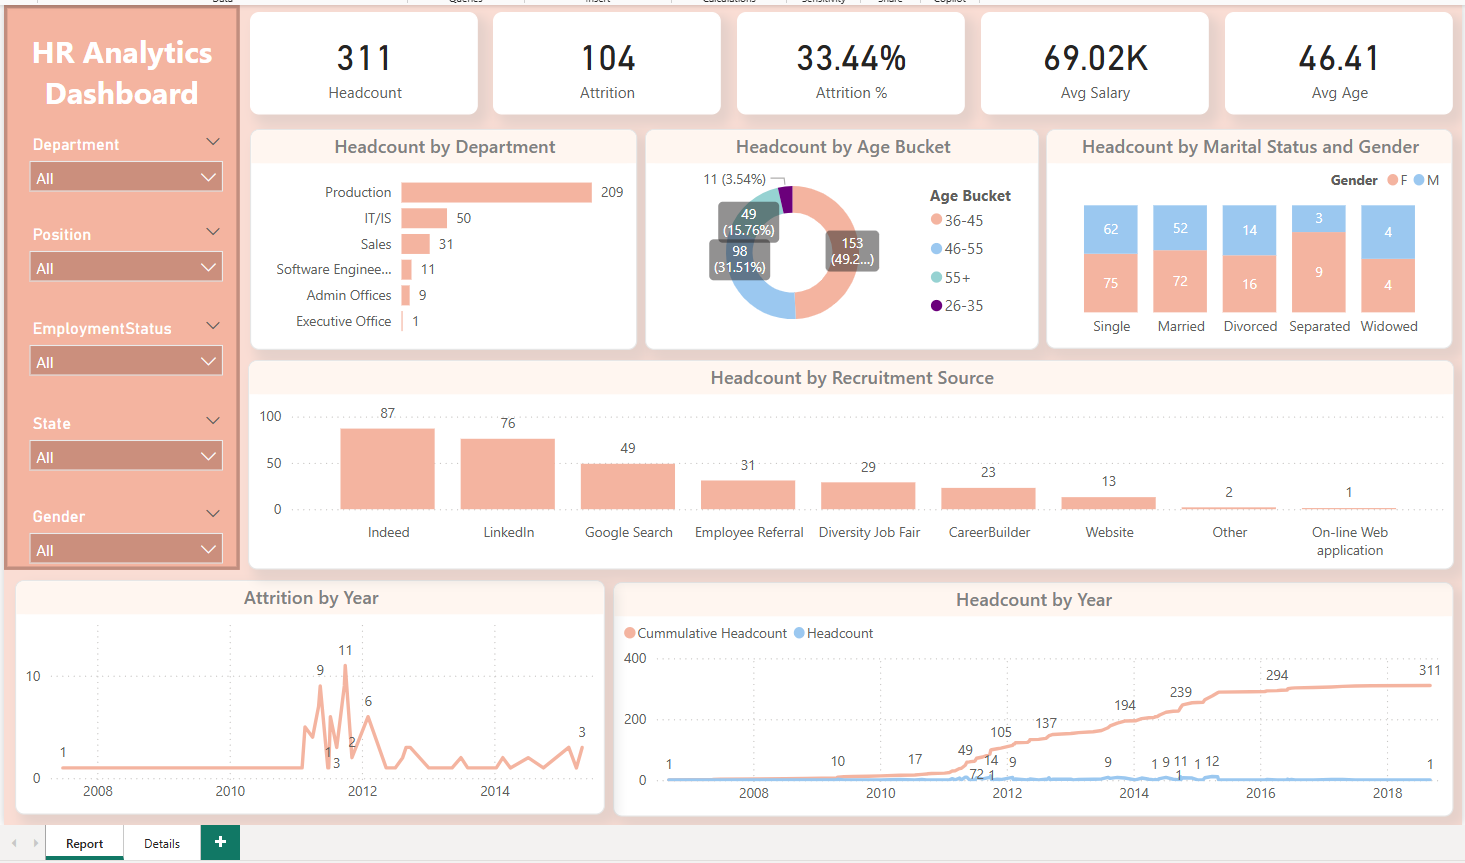

The page's visual inventory and layout, read from the dashboard file:
{"tool":"powerbi","page":{"name":"Report","canvas":[1280,720],"ordinal":0},"visuals":[{"type":"shape","box":[0,0,207.5,495.5],"z":0},{"type":"card","fields":{"Values":["Measure.Headcount"]},"box":[215.6,6.2,200,89.6],"z":1000},{"type":"card","fields":{"Values":["Measure.Attrition"]},"box":[429.7,5.8,200,90.4],"z":2000},{"type":"card","fields":{"Values":["Measure.Attrition %"]},"box":[643.8,5.8,200,90.4],"z":3000},{"type":"card","fields":{"Values":["Measure.Avg Salary"]},"box":[857.8,5.8,200,90.4],"z":4000},{"type":"card","fields":{"Values":["Measure.Avg Age"]},"box":[1071.9,6.2,200,89.6],"z":5000},{"type":"clusteredBarChart","fields":{"Y":["Measure.Headcount"],"Category":["HRDataset_v14.Department"]},"box":[216,109,340,194],"z":6000},{"type":"donutChart","fields":{"Category":["HRDataset_v14.Age Bucket"],"Y":["Measure.Headcount"]},"box":[562.5,109,346,194],"z":7000},{"type":"hundredPercentStackedColumnChart","title":"Headcount by Marital Status and Gender","fields":{"Category":["HRDataset_v14.MaritalDesc"],"Y":["Measure.Headcount"],"Series":["HRDataset_v14.Gender"]},"box":[915,109,357,193],"z":8000},{"type":"lineChart","title":"Headcount by Year","fields":{"Category":["HRDataset_v14.DateofHire"],"Y":["Measure.Cummulative Headcount","Measure.Headcount"]},"box":[534.4,506.2,737.5,206],"z":9000},{"type":"lineChart","title":"Attrition by Year","fields":{"Category":["HRDataset_v14.DateofHire"],"Y":["Measure.Attrition"]},"box":[10,505,518,206],"z":10000},{"type":"columnChart","title":"Headcount by Recruitment Source","fields":{"Y":["Measure.Headcount"],"Category":["HRDataset_v14.RecruitmentSource"]},"box":[214,312,1059,184],"z":11000},{"type":"slicer","fields":{"Values":["HRDataset_v14.Department"]},"box":[12.3,109.2,190,60],"z":12000},{"type":"slicer","fields":{"Values":["HRDataset_v14.Position"]},"box":[12.3,187.7,190,60],"z":13000},{"type":"slicer","fields":{"Values":["HRDataset_v14.EmploymentStatus"]},"box":[12.3,270.8,190,60],"z":14000},{"type":"slicer","fields":{"Values":["HRDataset_v14.State"]},"box":[12.3,353.8,190,60],"z":15000},{"type":"slicer","fields":{"Values":["HRDataset_v14.Gender"]},"box":[12.3,435.4,190,60],"z":16000},{"type":"textbox","box":[0,0,207,109],"z":17000}]}

Visuals, with their boxes on the page's 1280x720 design canvas (x1, y1, x2, y2). These are canvas units, not pixel positions in the 1465x863 screenshot, which may show the page scaled, cropped or inside an application window:
shape: x1=0, y1=0, x2=208, y2=496
card - Measure.Headcount: x1=216, y1=6, x2=416, y2=96
card - Measure.Attrition: x1=430, y1=6, x2=630, y2=96
card - Measure.Attrition %: x1=644, y1=6, x2=844, y2=96
card - Measure.Avg Salary: x1=858, y1=6, x2=1058, y2=96
card - Measure.Avg Age: x1=1072, y1=6, x2=1272, y2=96
clusteredBarChart - Measure.Headcount x HRDataset_v14.Department: x1=216, y1=109, x2=556, y2=303
donutChart - HRDataset_v14.Age Bucket x Measure.Headcount: x1=562, y1=109, x2=908, y2=303
"Headcount by Marital Status and Gender" hundredPercentStackedColumnChart: x1=915, y1=109, x2=1272, y2=302
"Headcount by Year" lineChart: x1=534, y1=506, x2=1272, y2=712
"Attrition by Year" lineChart: x1=10, y1=505, x2=528, y2=711
"Headcount by Recruitment Source" columnChart: x1=214, y1=312, x2=1273, y2=496
slicer - HRDataset_v14.Department: x1=12, y1=109, x2=202, y2=169
slicer - HRDataset_v14.Position: x1=12, y1=188, x2=202, y2=248
slicer - HRDataset_v14.EmploymentStatus: x1=12, y1=271, x2=202, y2=331
slicer - HRDataset_v14.State: x1=12, y1=354, x2=202, y2=414
slicer - HRDataset_v14.Gender: x1=12, y1=435, x2=202, y2=495
textbox: x1=0, y1=0, x2=207, y2=109
